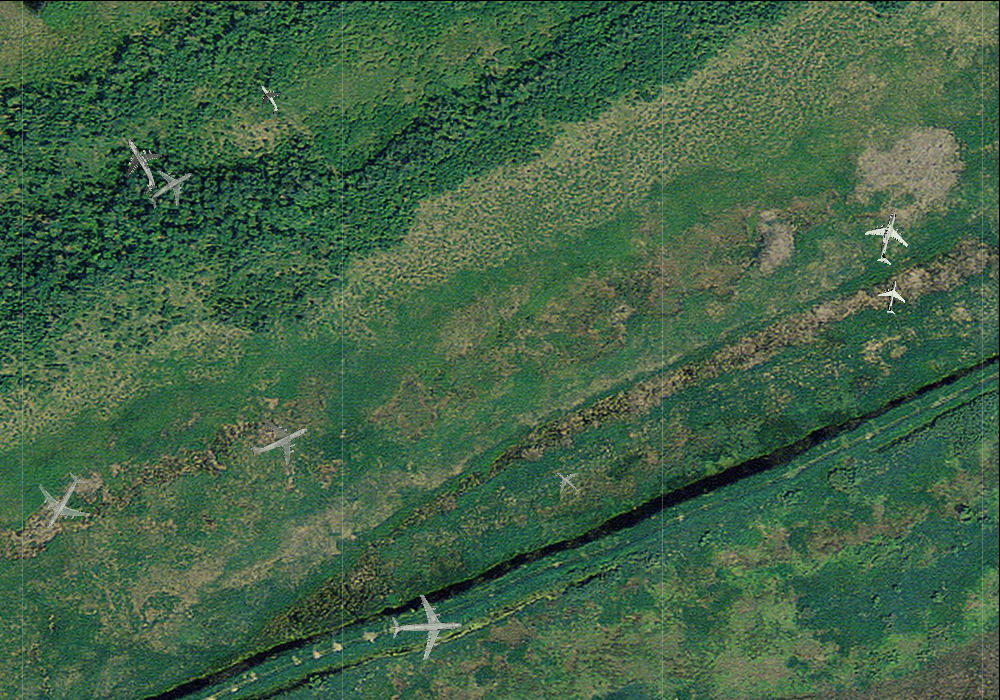plane: (21, 461, 103, 545), (238, 400, 318, 479), (103, 127, 176, 202), (389, 591, 464, 662), (136, 154, 204, 221), (857, 204, 921, 270), (247, 77, 289, 120), (546, 461, 588, 503), (873, 277, 912, 317)
